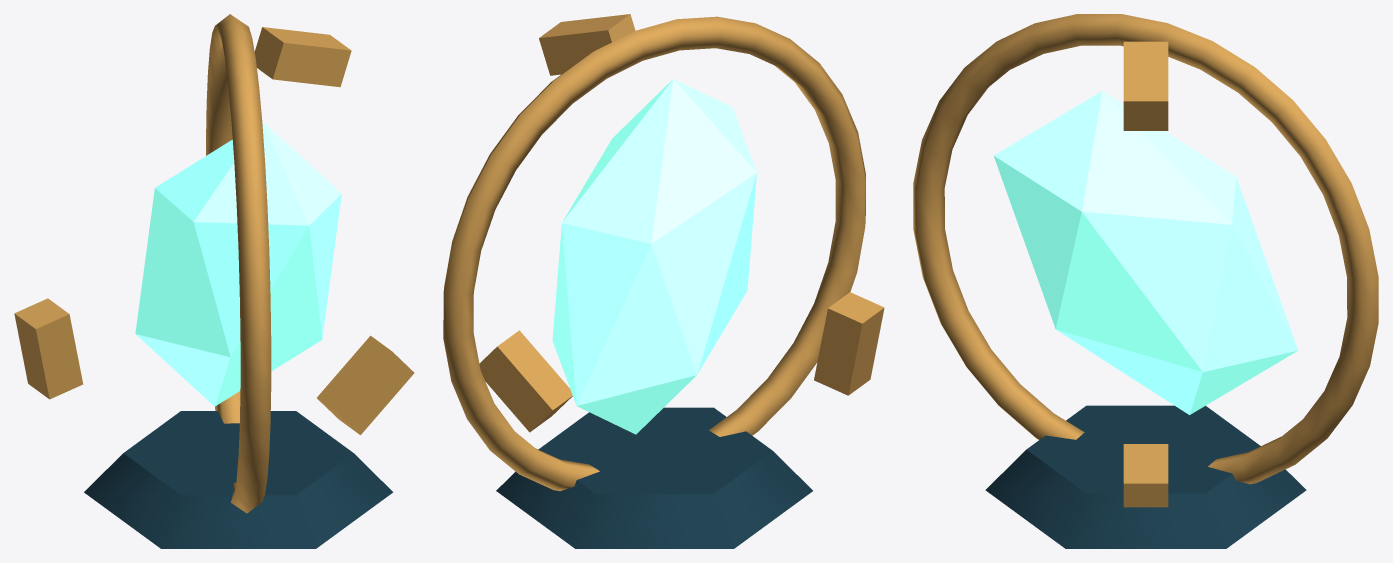
File: relic-05.glb
3 renders of one model, left to right at view 1: azimuth 30°, elevation 25°; view 2: azimuth 150°, elevation 25°; view 3: azimuth 270°, elevation 25°, orthographic. The views are drawn at different scales.
Parts seen in each view (by area): view 1: aether-glass-merged, aged-brass-merged, deep-basalt-merged; view 2: aether-glass-merged, aged-brass-merged, deep-basalt-merged; view 3: aether-glass-merged, aged-brass-merged, deep-basalt-merged.
Part boxes in pixels (box(x1,y1,x2,y2)): aether-glass-merged: box(135, 121, 341, 406); aged-brass-merged: box(14, 14, 414, 513); deep-basalt-merged: box(84, 411, 393, 548); aether-glass-merged: box(552, 79, 756, 434); aged-brass-merged: box(443, 14, 884, 491); deep-basalt-merged: box(496, 407, 812, 548); aether-glass-merged: box(993, 91, 1298, 414); aged-brass-merged: box(913, 14, 1378, 507); deep-basalt-merged: box(985, 405, 1306, 548).
Bounding box in the file's own units: 1.21 × 1.39 × 1.25.
